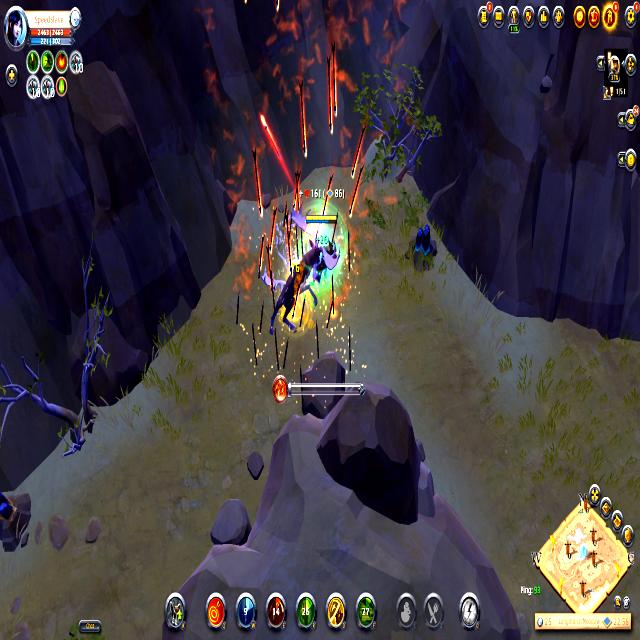ore: (266, 204, 340, 346)
player: (0, 479, 35, 555), (403, 218, 440, 276)
red: (301, 209, 340, 245)
